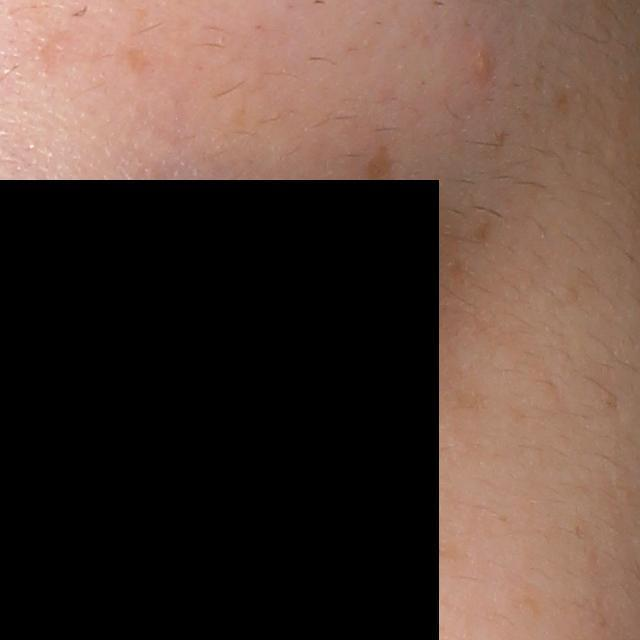melasma: (362, 143, 395, 210), (473, 213, 491, 245)
papule: (467, 46, 499, 88)
